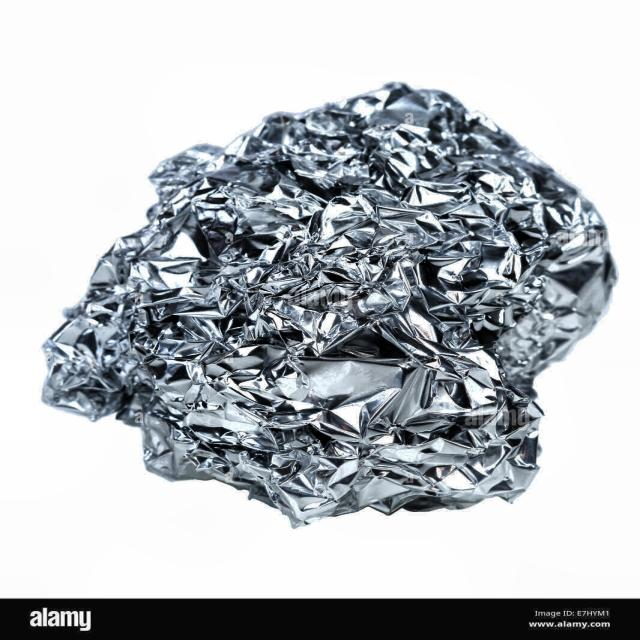Foil: (14, 72, 638, 540)
